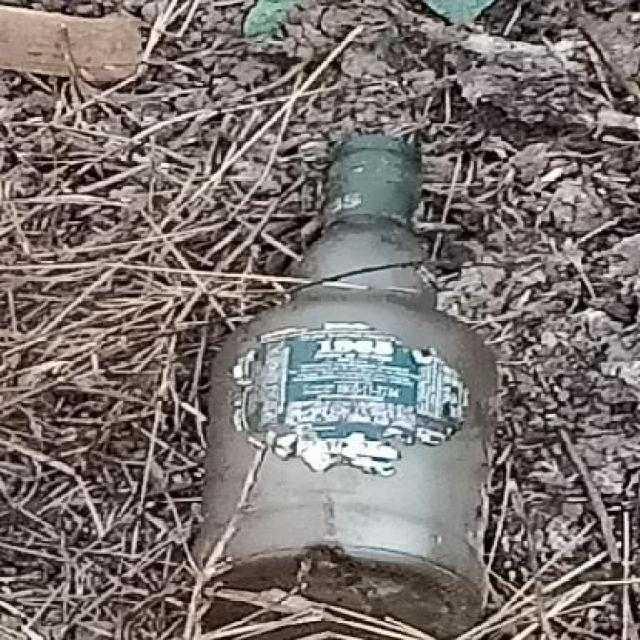garbage: (180, 124, 540, 640)
